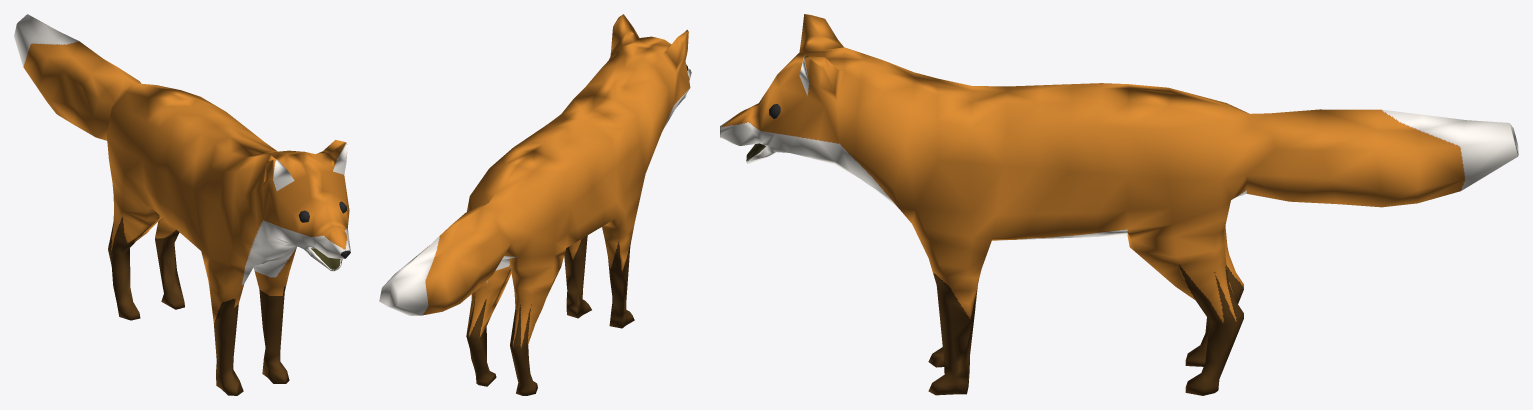
File: model-fox.glb
3 renders of one model, left to right at view 1: azimuth 30°, elevation 25°; view 2: azimuth 150°, elevation 25°; view 3: azimuth 270°, elevation 25°, orthographic. The views are drawn at different scales.
Visible parts, largest first — view 1: Sphere; view 2: Sphere; view 3: Sphere.
Part boxes in pixels (x1,y1,x2,y2): Sphere: [14, 14, 350, 395]; Sphere: [379, 14, 691, 395]; Sphere: [720, 14, 1518, 395].
Size of the model in its own units: 0.5099 by 1.69 by 3.59.
Materials: 1 (1 with a texture image).
